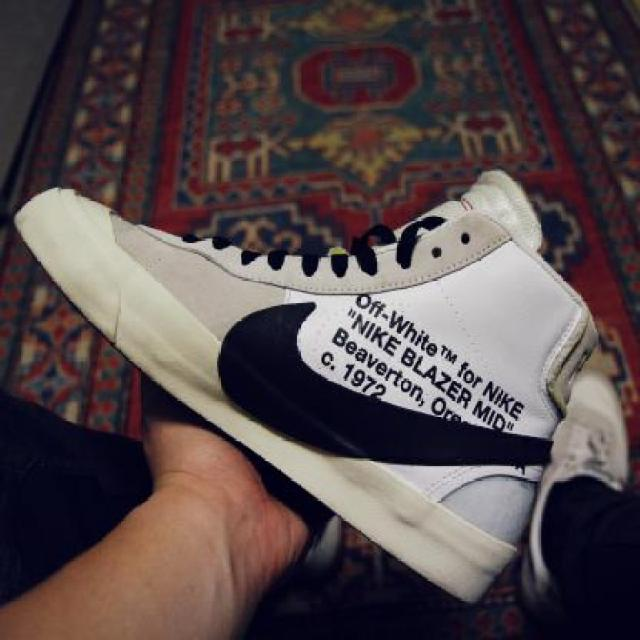shoe: (12, 167, 602, 608)
